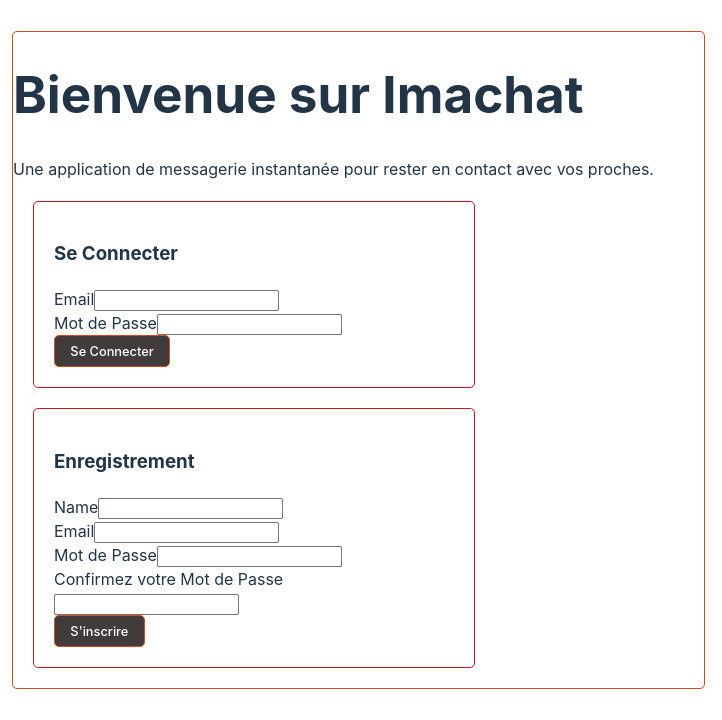
it: Register Component › should show error message for invalid email
Type "test" into the field with id "name". click: {"x": 191, "y": 509}
box: [98,498,283,519]
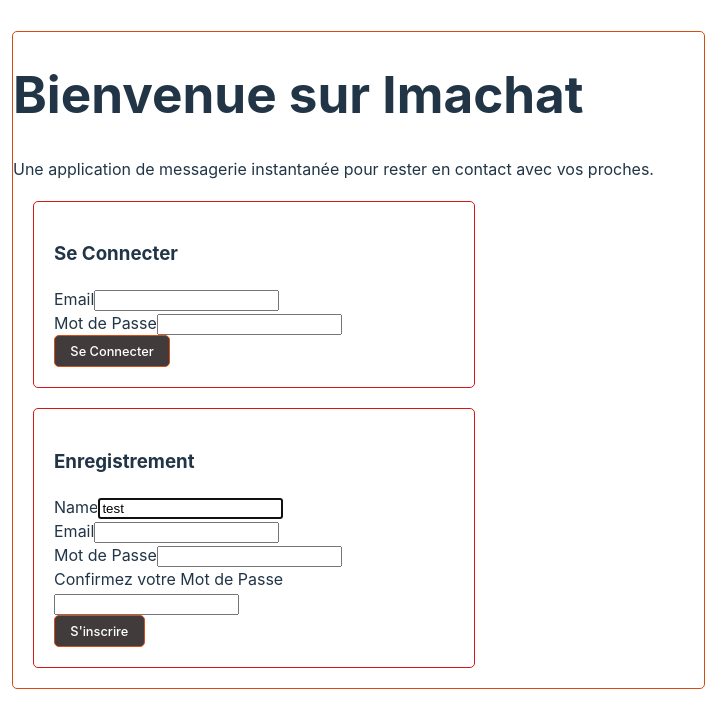
Type "invalid_email" into the field with id "email". click: {"x": 187, "y": 533}
box: [94,522,279,543]
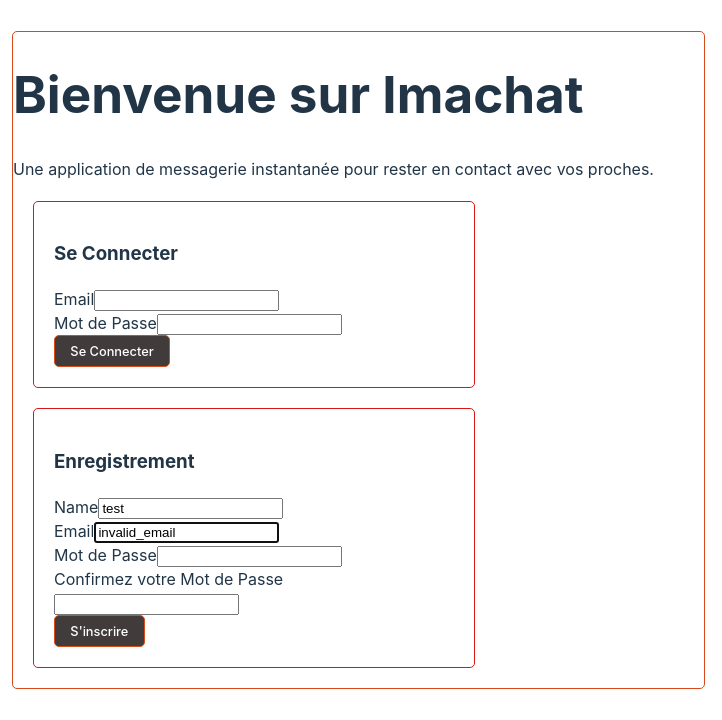
Click the button with class "register-button". click: {"x": 100, "y": 631}
box: [54,615,145,647]
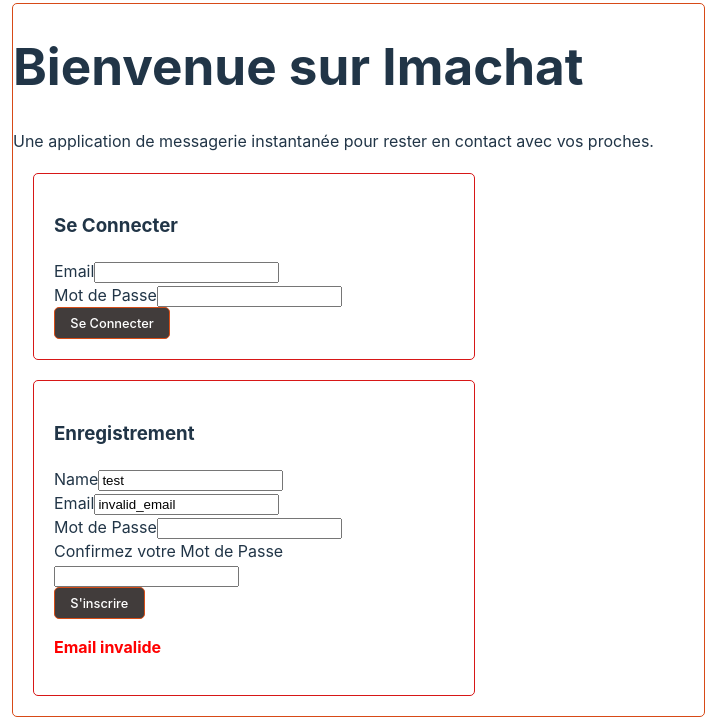
Expected: the text with class "error-message" reads "Email invalide", [54,637,161,657]
